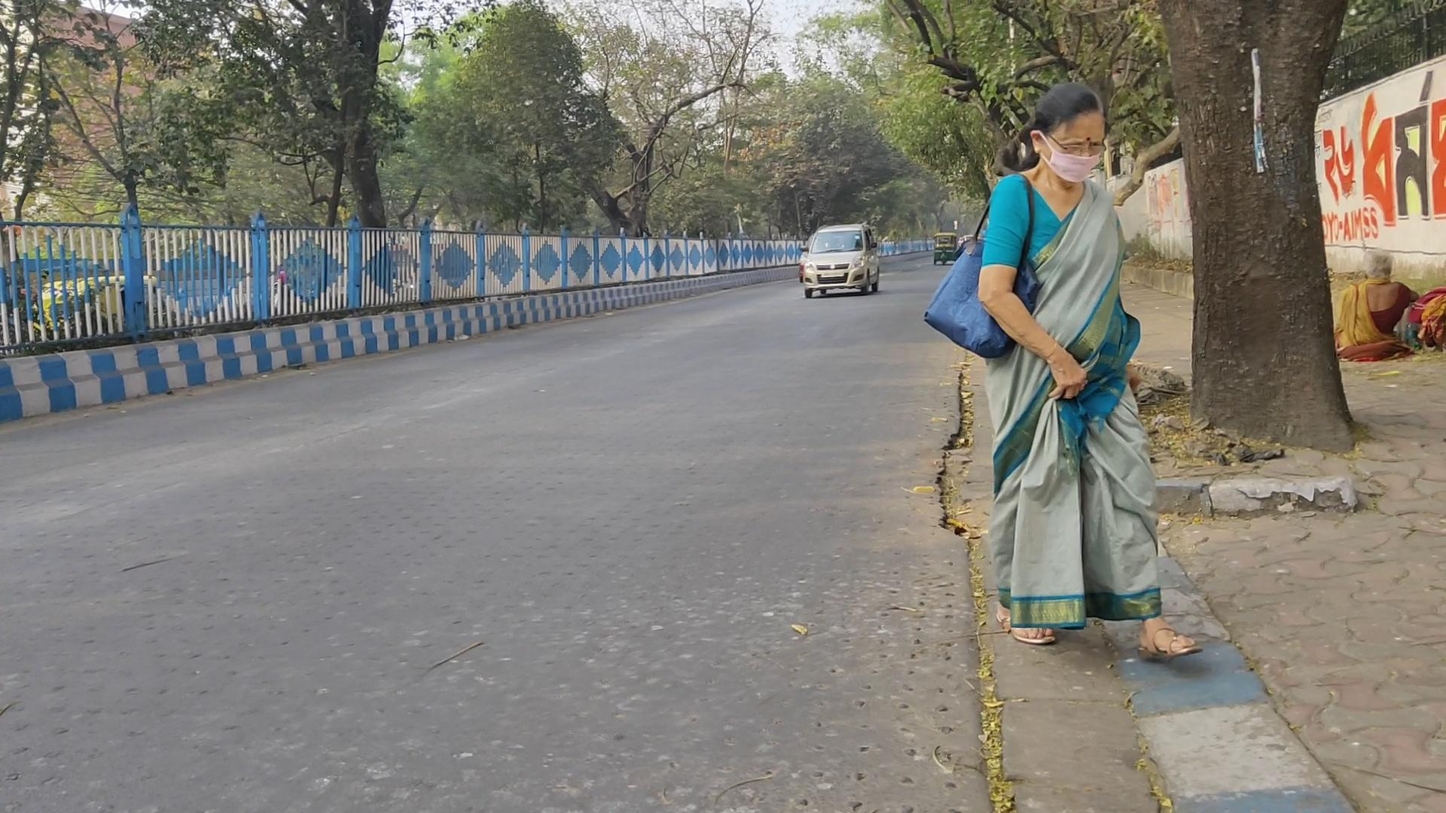Auto: (932, 232, 959, 265)
car: (801, 223, 882, 296)
